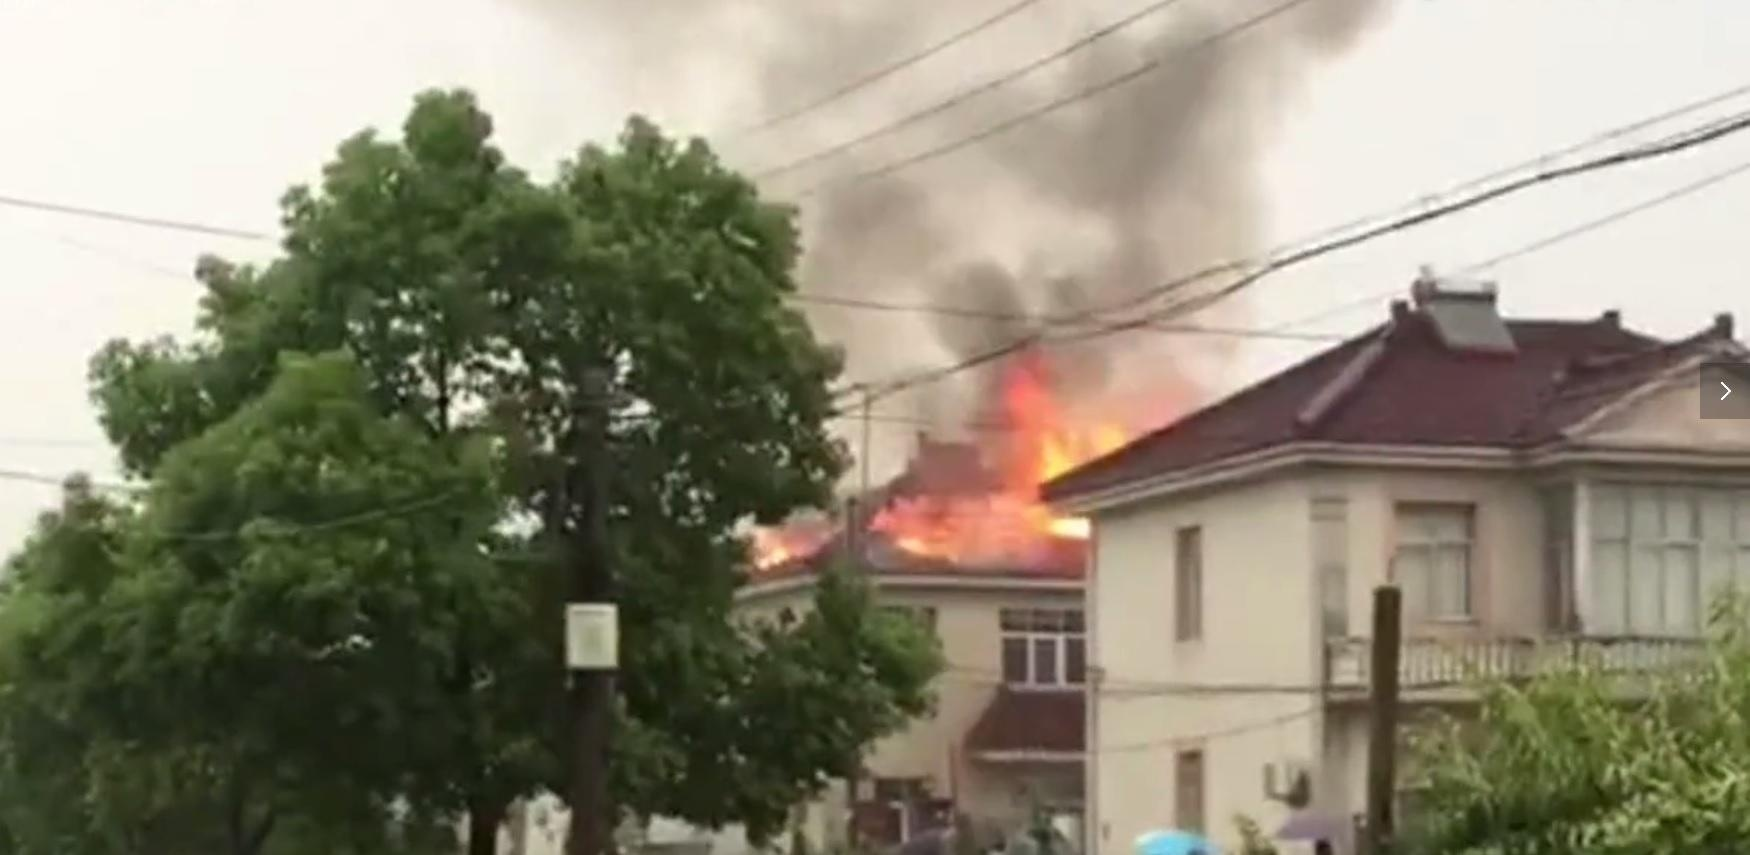fire: (893, 392, 1107, 558)
